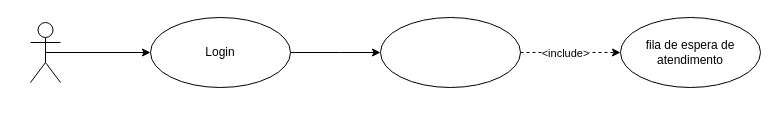
Image size: 778x121. Some labels were removed from this diagram. The centre of each missing label's shape, as x and y in pixels:
"Validar area" goes at pixel 450 52.
"Veterinário" goes at pixel 45 52.
